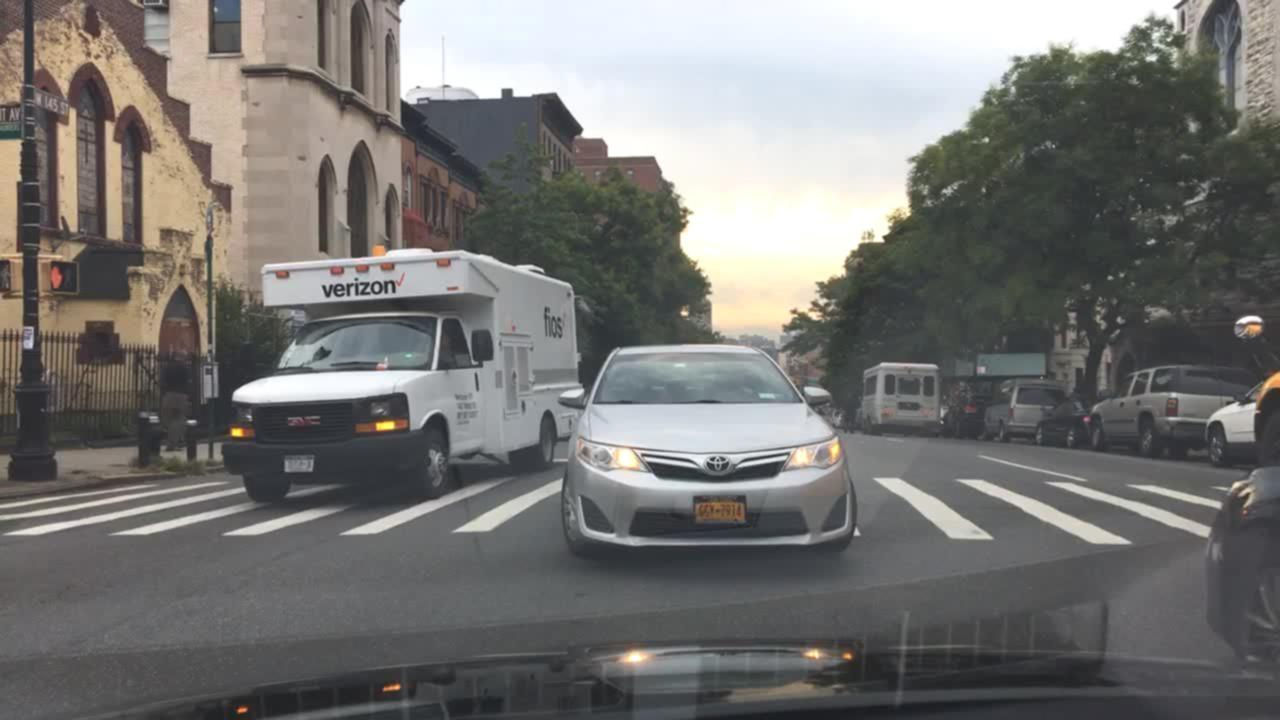GMC: (282, 412, 325, 432)
Toyota: (704, 449, 729, 478)
